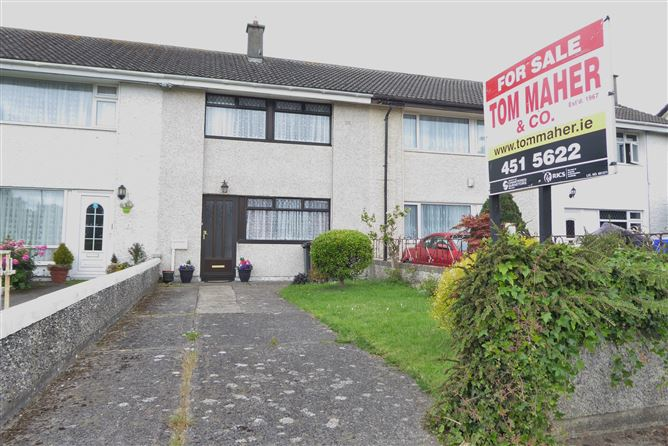property sign: (457, 8, 616, 200)
